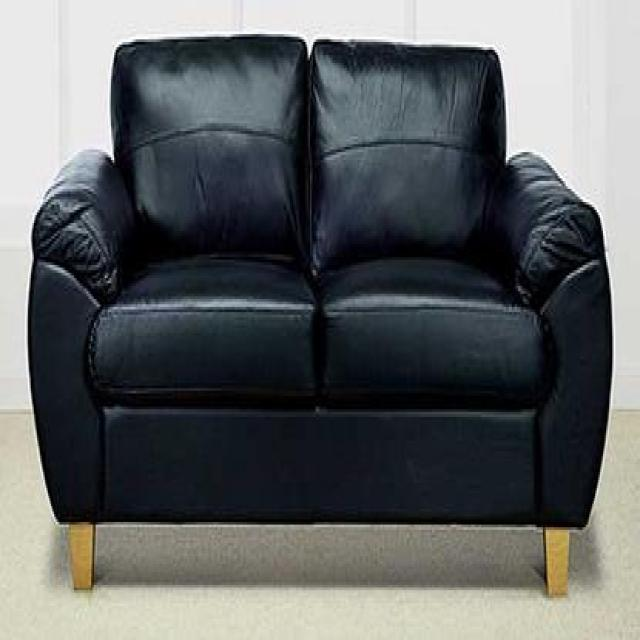sofa: (22, 32, 616, 598)
